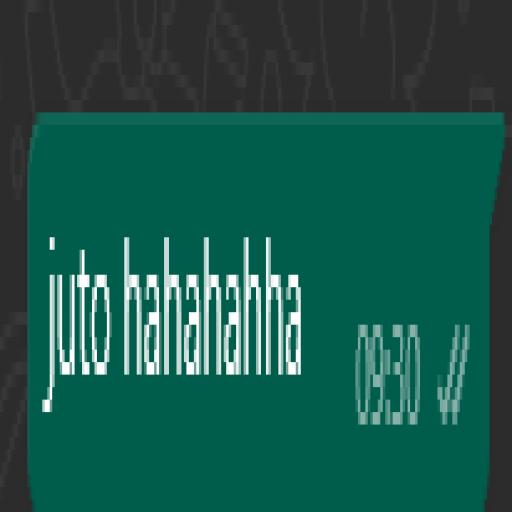mensagem-enviada: (30, 125, 485, 475)
